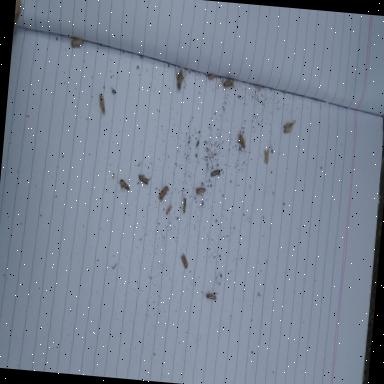pbw: (174, 66, 187, 90), (158, 184, 170, 203), (282, 118, 296, 134), (98, 92, 107, 116), (119, 178, 131, 193), (180, 252, 190, 269), (70, 36, 84, 48), (237, 132, 247, 148), (138, 174, 150, 185), (206, 290, 219, 300), (263, 148, 270, 164), (195, 186, 206, 195), (223, 80, 235, 88), (182, 197, 188, 213), (211, 168, 221, 177), (166, 204, 173, 214)
